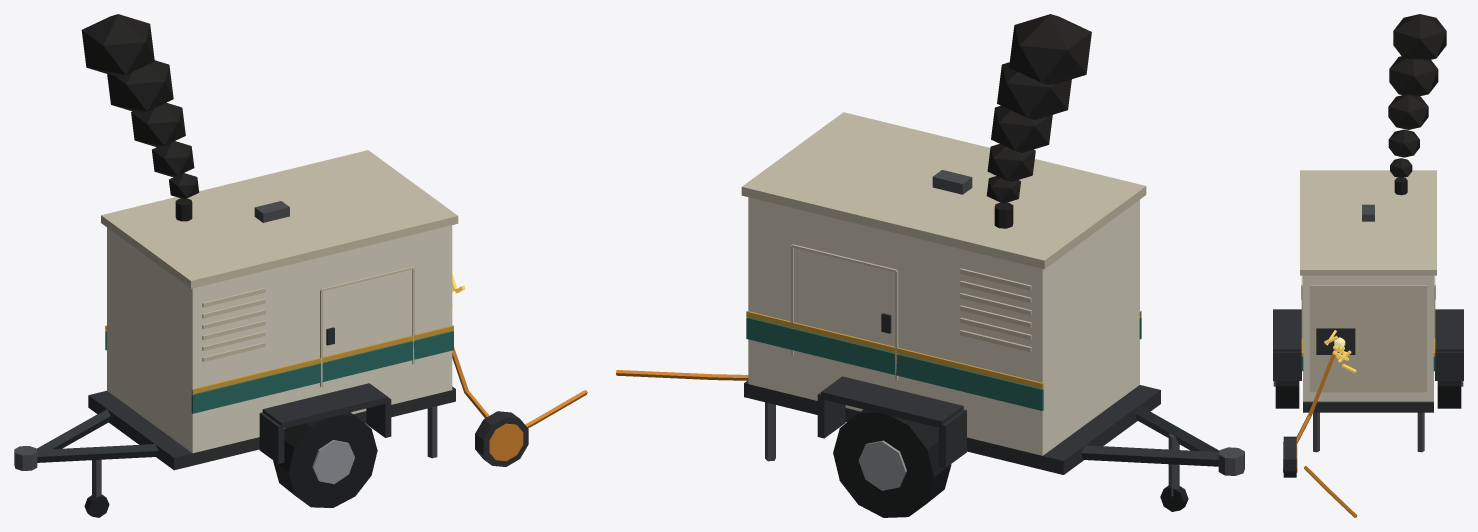
The model's file is lwf_hire_generator_fault_v1.glb.
The picture shows the model from 3 angles, left to right: view 1: azimuth 30°, elevation 25°; view 2: azimuth 150°, elevation 25°; view 3: azimuth 270°, elevation 25°; orthographic projection. The views are drawn at different scales.
Visible parts, largest first — view 1: LWF_HireGenerator_Base, LWF_HireGenerator_State_Fault; view 2: LWF_HireGenerator_Base, LWF_HireGenerator_State_Fault; view 3: LWF_HireGenerator_Base, LWF_HireGenerator_State_Fault.
Boxes of the visible parts, box(x1,y1,x2,y2) form: LWF_HireGenerator_Base: box(14, 150, 587, 517); LWF_HireGenerator_State_Fault: box(81, 14, 489, 418); LWF_HireGenerator_Base: box(616, 112, 1244, 517); LWF_HireGenerator_State_Fault: box(986, 14, 1091, 228); LWF_HireGenerator_Base: box(1273, 170, 1463, 517); LWF_HireGenerator_State_Fault: box(1296, 14, 1446, 443).
Bounding box in the file's own units: 3.79 × 2.96 × 1.46.
2 materials, 2 textured.
